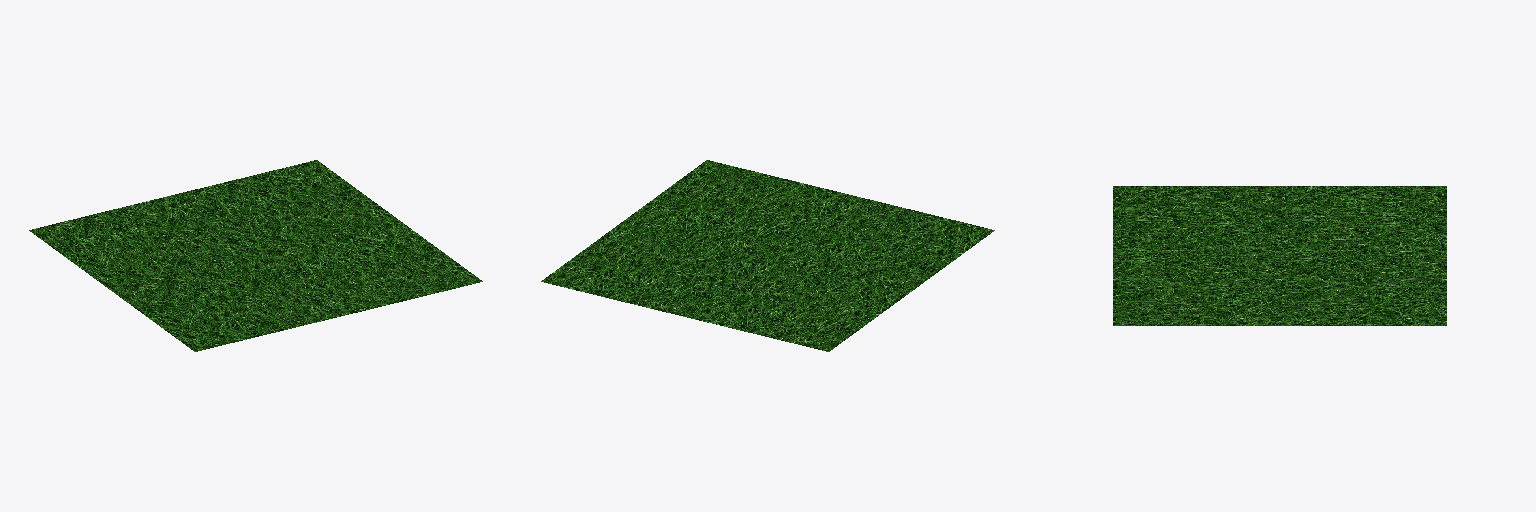
The picture shows the model from 3 angles: view 1: azimuth 30°, elevation 25°; view 2: azimuth 150°, elevation 25°; view 3: azimuth 270°, elevation 25°; orthographic projection.
Visible parts, largest first — view 1: Pasto; view 2: Pasto; view 3: Pasto.
Part boxes in pixels (x1,y1,x2,y2): Pasto: (29,160,482,351); Pasto: (541,160,994,351); Pasto: (1113,186,1446,325).
Bounding box in the file's own units: 3.48 × 0 × 3.48.
Materials: 1 (1 with a texture image).